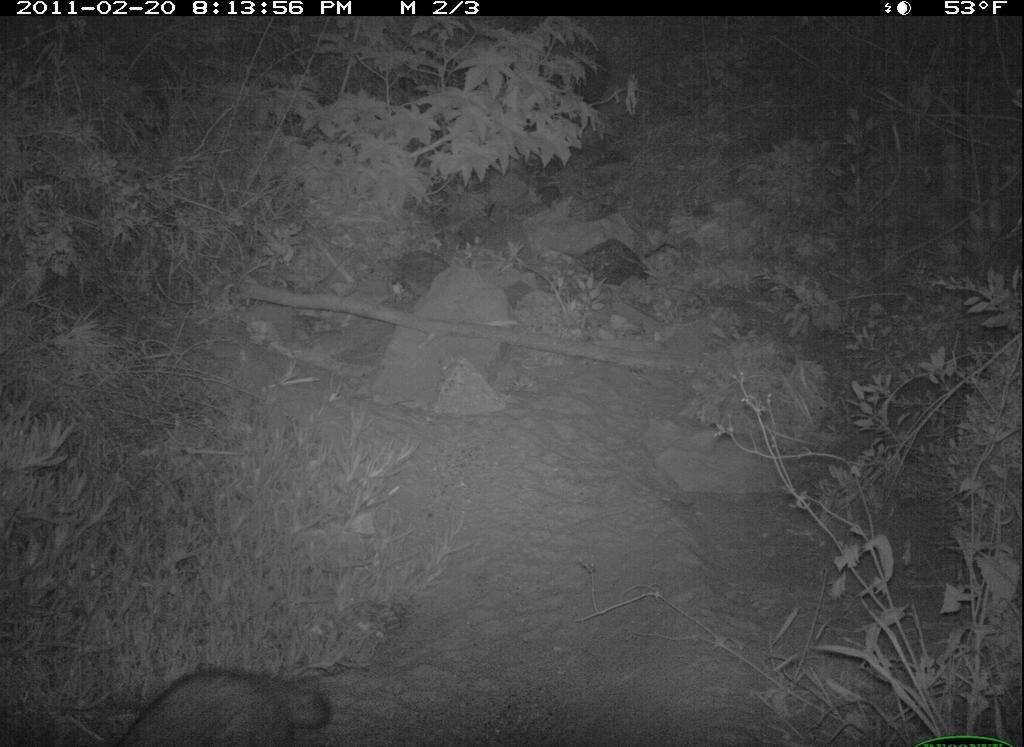raccoon: (97, 665, 334, 747)
